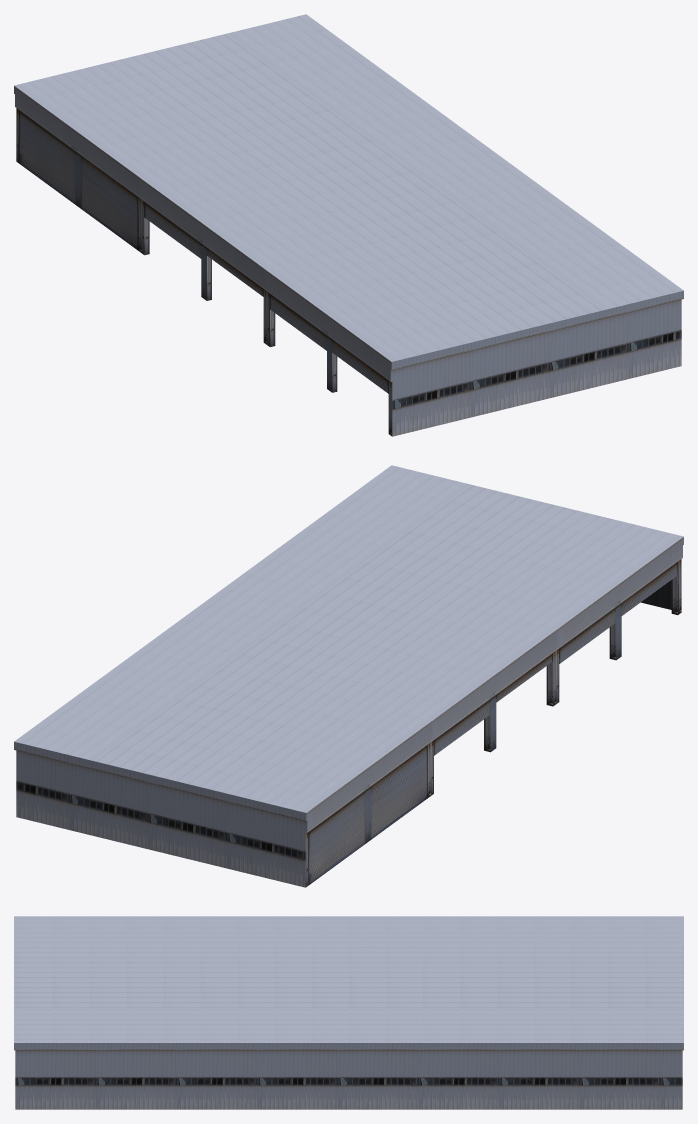
The model's file is HERZELIAHANGAR1.gltf.
3 views of the same model, one above another, from view 1: azimuth 30°, elevation 25°; view 2: azimuth 150°, elevation 25°; view 3: azimuth 270°, elevation 25° (orthographic). The views are drawn at different scales.
Visible parts, largest first — view 1: node1, node3, node4; view 2: node1, node3, node4; view 3: node1, node3.
Boxes of the visible parts, <box> form: node1: <box>14,14,683,361</box>; node3: <box>390,290,683,436</box>; node4: <box>14,86,392,436</box>; node1: <box>14,465,683,812</box>; node3: <box>14,741,307,887</box>; node4: <box>305,537,683,887</box>; node1: <box>14,916,683,1042</box>; node3: <box>14,1043,683,1109</box>.
Bounding box in the file's own units: 20.2 × 5 × 45.2.
